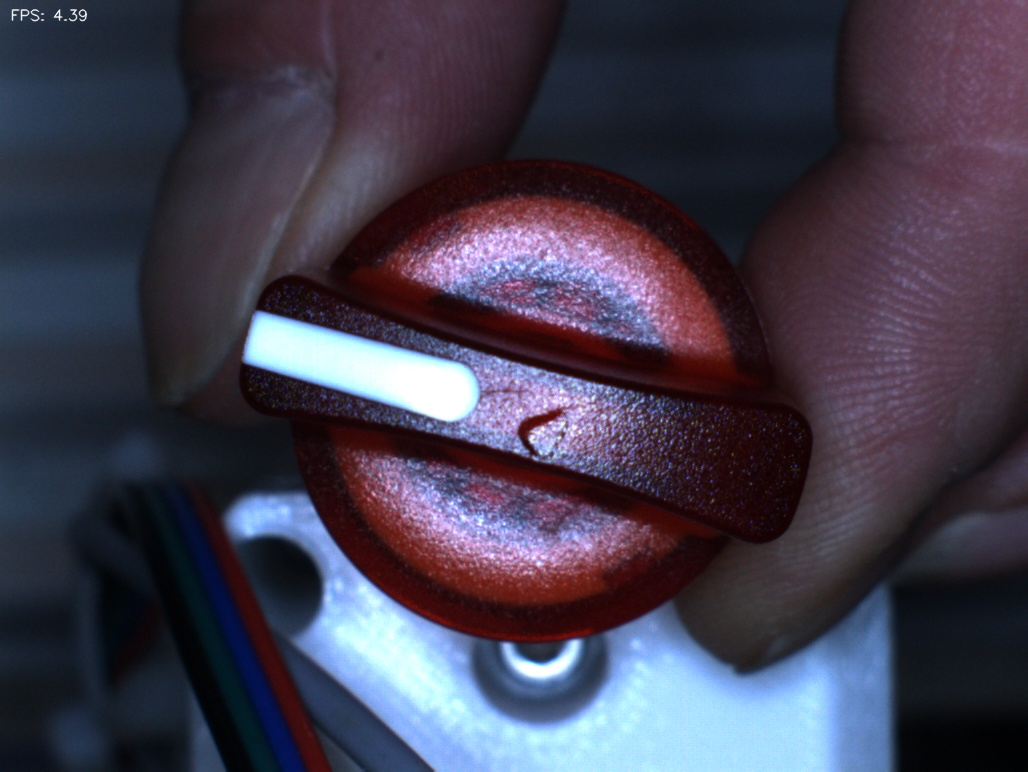Choc: (501, 391, 591, 481)
